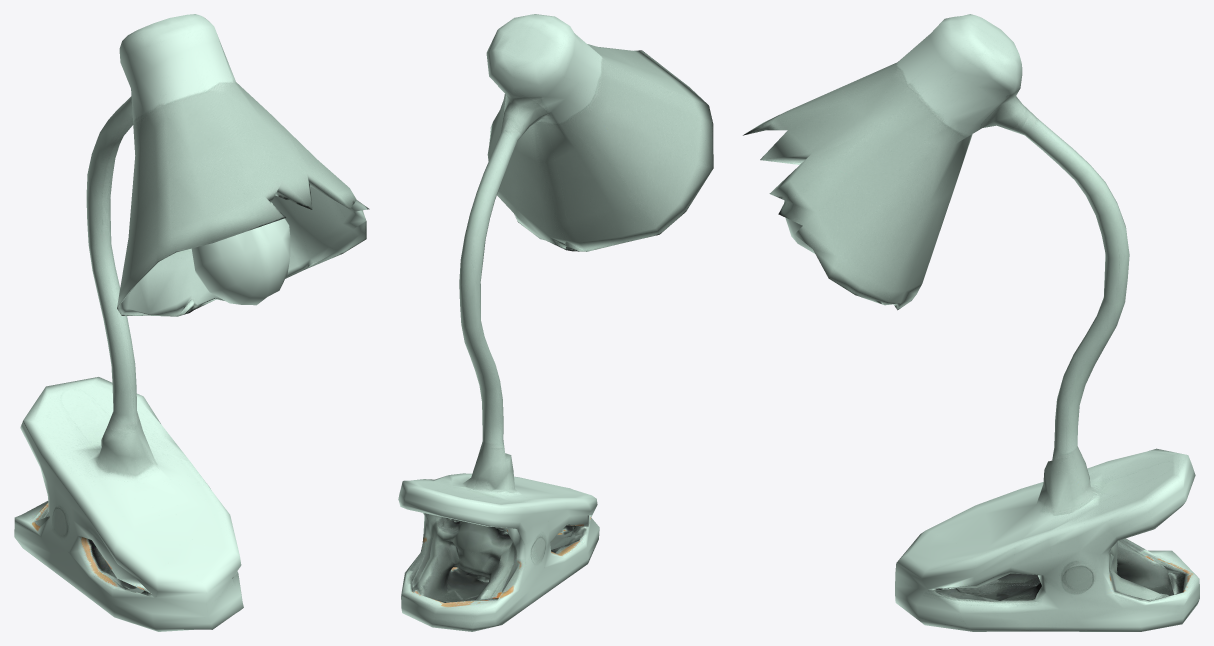
Rendered from lamp_clip_c1.glb.
3 renders of one model, left to right at view 1: azimuth 30°, elevation 25°; view 2: azimuth 150°, elevation 25°; view 3: azimuth 270°, elevation 25°, orthographic. The views are drawn at different scales.
Bounding box in the file's own units: 0.861 × 2 × 1.42.
1 material, 1 textured.
